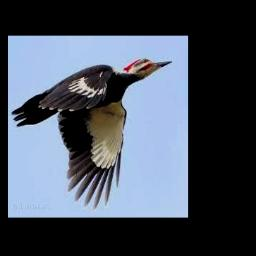Woodpecker: (11, 58, 173, 210)
